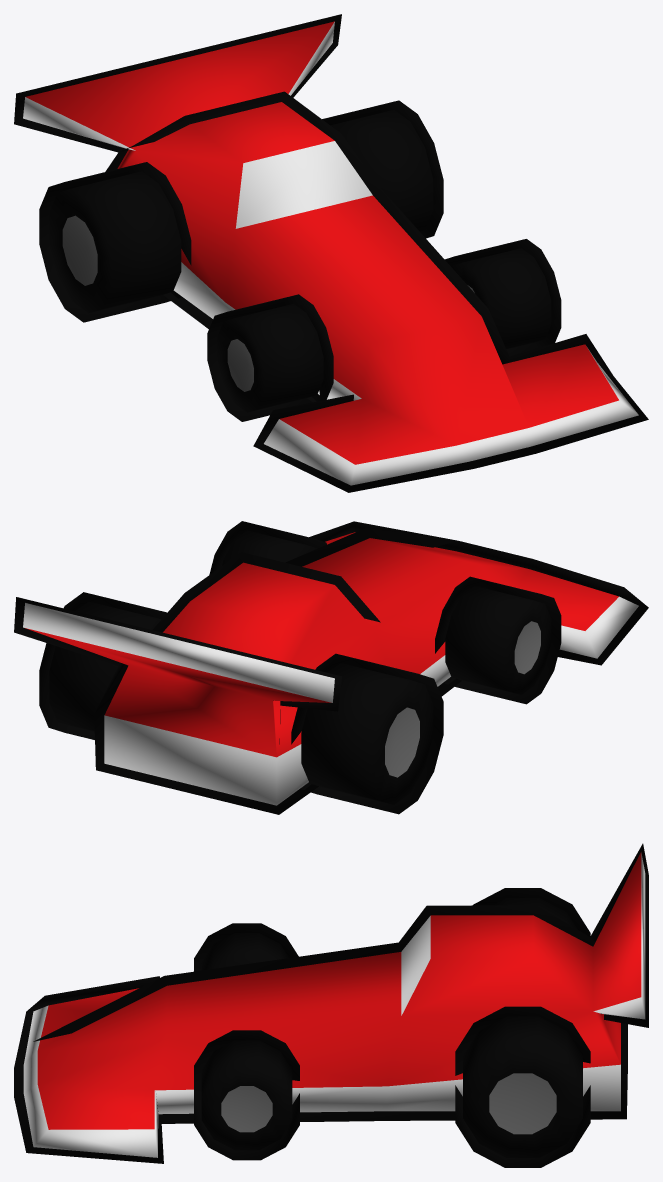
Rendered from racecar.fbx.
3 renders of one model, top to bottom at view 1: azimuth 30°, elevation 25°; view 2: azimuth 150°, elevation 25°; view 3: azimuth 270°, elevation 25°, orthographic. The views are drawn at different scales.
Parts seen in each view (by area): view 1: Car; view 2: Car; view 3: Car.
Boxes of the visible parts, x1,y1,x2,y2 form: Car: (14, 14, 648, 492); Car: (14, 521, 648, 814); Car: (14, 843, 648, 1167).
Bounding box in the file's own units: 465 × 762 × 225.
